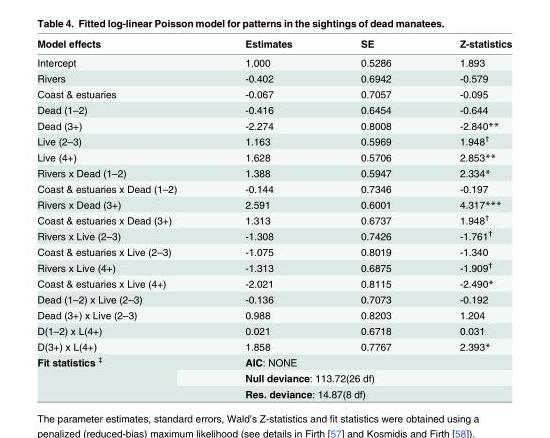table: (36, 37, 511, 399)
table column: (36, 37, 210, 399), (210, 37, 325, 399), (325, 37, 424, 399), (424, 37, 511, 399)
table column header: (36, 37, 511, 52)
table row: (36, 52, 511, 70), (36, 85, 511, 101), (36, 101, 511, 117), (36, 117, 511, 133), (36, 148, 511, 164), (36, 164, 511, 180), (36, 180, 511, 196), (36, 196, 511, 212), (36, 227, 511, 243), (36, 243, 511, 259), (36, 259, 511, 275), (36, 275, 511, 291), (36, 306, 511, 322), (36, 322, 511, 338), (36, 338, 511, 354), (36, 369, 511, 385), (36, 37, 511, 52), (36, 70, 511, 85), (36, 133, 511, 148), (36, 212, 511, 227), (36, 291, 511, 306), (36, 354, 511, 369), (36, 385, 511, 399)
table spanning cell: (36, 354, 210, 399), (210, 369, 511, 385), (210, 354, 511, 369), (210, 385, 511, 399)
